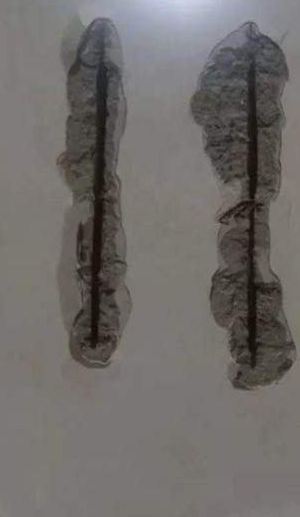Exposed reinforcement: (89, 57, 110, 349), (246, 58, 259, 369)
Spalling: (188, 21, 299, 391), (55, 17, 133, 371)
